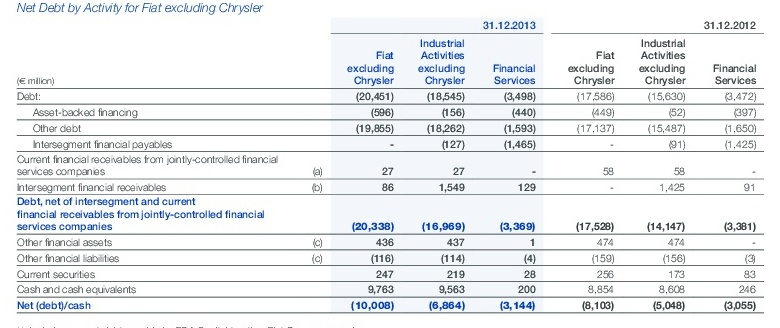table: (0, 0, 780, 328)
